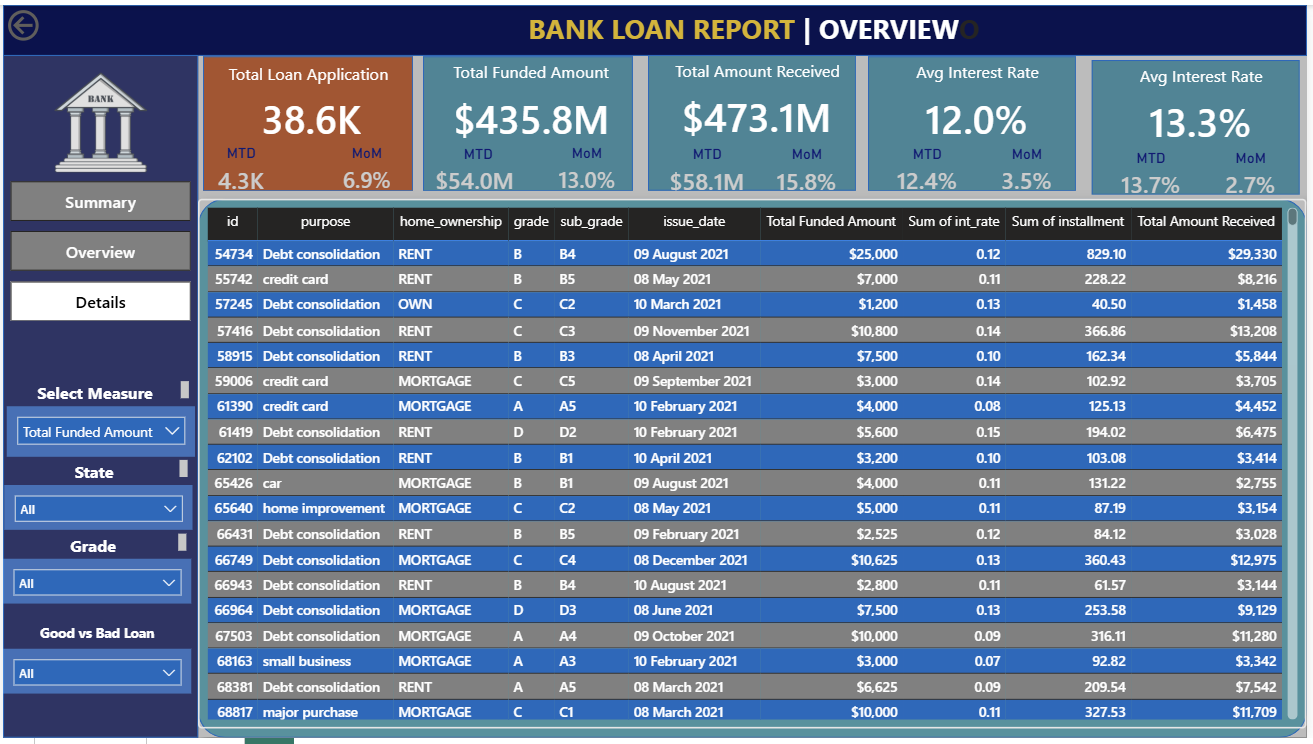

The page's visual inventory and layout, read from the dashboard file:
{"tool":"powerbi","page":{"name":"Details","canvas":[1280,720],"ordinal":2},"visuals":[{"type":"shape","box":[0,0,1280,50],"z":0},{"type":"shape","box":[633.2,49.1,204.1,133.2],"z":0,"group":"g3"},{"type":"shape","box":[412.2,50,206,132.3],"z":0,"group":"g5"},{"type":"shape","box":[849.4,50,204.1,132.3],"z":0,"group":"g4"},{"type":"shape","box":[195.9,50.3,206.1,132.3],"z":0,"group":"g6"},{"type":"shape","box":[1069.1,53.9,204.1,132.3],"z":0,"group":"g7"},{"type":"textbox","box":[1,441.6,184.8,29.2],"z":0,"group":"g8"},{"type":"textbox","box":[0,514.5,184.8,29.2],"z":0,"group":"g10"},{"type":"textbox","box":[0,602.1,184.8,29.2],"z":0,"group":"g9"},{"type":"shape","box":[0,49.6,191.6,670.2],"z":1000},{"type":"cardVisual","fields":{"Data":["bank_loan_data.Total Amount Received"]},"box":[648.5,81,184.4,54.9],"z":1000,"group":"g3"},{"type":"cardVisual","fields":{"Data":["bank_loan_data.Total Funded Amount"]},"box":[425.7,81.7,186.1,54.5],"z":1000,"group":"g5"},{"type":"cardVisual","fields":{"Data":["bank_loan_data.Average Interate Rate"]},"box":[864.7,81.7,184.4,54.5],"z":1000,"group":"g4"},{"type":"cardVisual","fields":{"Data":["bank_loan_data.Total Loan Application"]},"box":[209.4,82,186.2,54.5],"z":1000,"group":"g6"},{"type":"cardVisual","fields":{"Data":["bank_loan_data.Average DTI"]},"box":[1084.4,85.6,184.4,54.5],"z":1000,"group":"g7"},{"type":"slicer","fields":{"Values":["bank_loan_data.address_state"]},"box":[1,470.8,184.8,43.8],"z":1000,"group":"g8"},{"type":"slicer","fields":{"Values":["bank_loan_data.grade"]},"box":[0,543.7,184.8,43.8],"z":1000,"group":"g10"},{"type":"slicer","fields":{"Values":["bank_loan_data.Good Vs Bad Loan"]},"box":[0,631.3,184.8,43.8],"z":1000,"group":"g9"},{"type":"textbox","box":[193.6,0,1086.4,49.6],"z":2000},{"type":"textbox","box":[636.7,47.7,208.1,33.3],"z":2000,"group":"g3"},{"type":"textbox","box":[413.7,48.6,210,33.1],"z":2000,"group":"g5"},{"type":"textbox","box":[852.9,48.6,208.1,33.1],"z":2000,"group":"g4"},{"type":"textbox","box":[202.8,50.9,192.6,36],"z":2000,"group":"g6"},{"type":"textbox","box":[1072.6,52.5,208.1,33.1],"z":2000,"group":"g7"},{"type":"group","id":"g1","title":"Group 1","box":[195.9,50.3,206.1,132.3],"z":3000},{"type":"cardVisual","title":"MTD ","fields":{"Data":["bank_loan_data.MTD Loan Application"]},"box":[197.4,136.5,72.7,45.7],"z":3000,"group":"g6"},{"type":"cardVisual","title":"MTD ","fields":{"Data":["bank_loan_data.MTD Total Amount Received"]},"box":[640,137.2,101.6,45.1],"z":3000,"group":"g3"},{"type":"cardVisual","title":"MTD ","fields":{"Data":["bank_loan_data.MTD Funded Amount"]},"box":[412.4,137.5,108.5,44.7],"z":3000,"group":"g5"},{"type":"cardVisual","title":"MTD ","fields":{"Data":["bank_loan_data.MTD Average Int Rate"]},"box":[856.2,137.5,101.6,44.7],"z":3000,"group":"g4"},{"type":"cardVisual","title":"MTD ","fields":{"Data":["bank_loan_data.MTD Average DTI"]},"box":[1075.9,141.4,101.6,44.7],"z":3000,"group":"g7"},{"type":"group","id":"g2","title":"Group 1","box":[412.2,48.6,212,133.3],"z":4000},{"type":"cardVisual","title":"MoM","fields":{"Data":["bank_loan_data.MoM Total Funded Amount"]},"box":[535.1,136.1,76.6,45.7],"z":4000,"group":"g5"},{"type":"cardVisual","title":"MoM","fields":{"Data":["bank_loan_data.MoM loan Application"]},"box":[318.9,136.5,76.7,45.7],"z":4000,"group":"g6"},{"type":"cardVisual","title":"MoM","fields":{"Data":["bank_loan_data.MoM Total Amount Received"]},"box":[744.6,137.2,88.7,45.1],"z":4000,"group":"g3"},{"type":"cardVisual","title":"MoM","fields":{"Data":["bank_loan_data.MoM Avg Int Rate"]},"box":[960.8,137.5,88.7,44.7],"z":4000,"group":"g4"},{"type":"cardVisual","title":"MoM","fields":{"Data":["bank_loan_data.MoM Avg DTI"]},"box":[1180.5,141.4,88.7,44.7],"z":4000,"group":"g7"},{"type":"group","id":"g3","title":"Group 2","box":[633.2,47.7,212,134.2],"z":5000},{"type":"group","id":"g4","title":"Group 2","box":[849.4,48.6,212,134.2],"z":6000},{"type":"group","id":"g5","title":"Group 2","box":[412.2,48.6,211.5,133.6],"z":6503,"group":"g2"},{"type":"group","id":"g6","title":"Group 2","box":[195.9,50.3,206.1,132.3],"z":6503,"group":"g1"},{"type":"group","id":"g7","title":"Group 2","box":[1069.1,52.5,211.5,133.6],"z":7000},{"type":"group","id":"g8","title":"Group 3","box":[1,441.6,184.8,72.9],"z":8000},{"type":"group","id":"g9","title":"Group 3","box":[0,602.1,184.8,72.9],"z":9000},{"type":"group","id":"g10","title":"Group 3","box":[0,514.5,184.8,72.9],"z":10000},{"type":"slicer","fields":{"Values":["Select Measure.Select Measure"]},"box":[3.9,393.9,184.8,49.6],"z":11000},{"type":"textbox","box":[2.9,364.7,184.8,29.2],"z":12000},{"type":"shape","box":[191.6,190.6,1088.4,529.1],"z":13000},{"type":"tableEx","fields":{"Values":["bank_loan_data.id","bank_loan_data.purpose","bank_loan_data.home_ownership","bank_loan_data.grade","bank_loan_data.sub_grade","bank_loan_data.issue_date","bank_loan_data.Total Funded Amount","Sum(bank_loan_data.int_rate)","Sum(bank_loan_data.installment)","bank_loan_data.Total Amount Received"]},"box":[191.6,190.6,1088.4,520.4],"z":14000},{"type":"actionButton","box":[0,0,100,40],"z":15000},{"type":"image","box":[0,50.6,191.6,129.4],"z":16000},{"type":"pageNavigator","box":[7.8,173.1,177,138.1],"z":17000}]}

Visuals, with their boxes in screenshot pixels (x1, y1, x2, y2), scaled from the page's 1280x720 canvas onto the 1313x744 screenshot:
shape: pyautogui.locateOnScreen(0, 0, 1312, 52)
shape: pyautogui.locateOnScreen(650, 51, 859, 188)
shape: pyautogui.locateOnScreen(423, 52, 634, 188)
shape: pyautogui.locateOnScreen(871, 52, 1081, 188)
shape: pyautogui.locateOnScreen(201, 52, 412, 189)
shape: pyautogui.locateOnScreen(1097, 56, 1306, 192)
textbox: pyautogui.locateOnScreen(1, 456, 191, 486)
textbox: pyautogui.locateOnScreen(0, 532, 190, 562)
textbox: pyautogui.locateOnScreen(0, 622, 190, 652)
shape: pyautogui.locateOnScreen(0, 51, 197, 743)
cardVisual - bank_loan_data.Total Amount Received: pyautogui.locateOnScreen(665, 84, 854, 140)
cardVisual - bank_loan_data.Total Funded Amount: pyautogui.locateOnScreen(437, 84, 628, 141)
cardVisual - bank_loan_data.Average Interate Rate: pyautogui.locateOnScreen(887, 84, 1076, 141)
cardVisual - bank_loan_data.Total Loan Application: pyautogui.locateOnScreen(215, 85, 406, 141)
cardVisual - bank_loan_data.Average DTI: pyautogui.locateOnScreen(1112, 88, 1302, 145)
slicer - bank_loan_data.address_state: pyautogui.locateOnScreen(1, 486, 191, 532)
slicer - bank_loan_data.grade: pyautogui.locateOnScreen(0, 562, 190, 607)
slicer - bank_loan_data.Good Vs Bad Loan: pyautogui.locateOnScreen(0, 652, 190, 698)
textbox: pyautogui.locateOnScreen(199, 0, 1312, 51)
textbox: pyautogui.locateOnScreen(653, 49, 867, 84)
textbox: pyautogui.locateOnScreen(424, 50, 640, 84)
textbox: pyautogui.locateOnScreen(875, 50, 1088, 84)
textbox: pyautogui.locateOnScreen(208, 53, 406, 90)
textbox: pyautogui.locateOnScreen(1100, 54, 1312, 88)
"Group 1" group: pyautogui.locateOnScreen(201, 52, 412, 189)
"MTD " cardVisual: pyautogui.locateOnScreen(202, 141, 277, 188)
"MTD " cardVisual: pyautogui.locateOnScreen(656, 142, 761, 188)
"MTD " cardVisual: pyautogui.locateOnScreen(423, 142, 534, 188)
"MTD " cardVisual: pyautogui.locateOnScreen(878, 142, 982, 188)
"MTD " cardVisual: pyautogui.locateOnScreen(1104, 146, 1208, 192)
"Group 1" group: pyautogui.locateOnScreen(423, 50, 640, 188)
"MoM" cardVisual: pyautogui.locateOnScreen(549, 141, 627, 188)
"MoM" cardVisual: pyautogui.locateOnScreen(327, 141, 406, 188)
"MoM" cardVisual: pyautogui.locateOnScreen(764, 142, 855, 188)
"MoM" cardVisual: pyautogui.locateOnScreen(986, 142, 1077, 188)
"MoM" cardVisual: pyautogui.locateOnScreen(1211, 146, 1302, 192)
"Group 2" group: pyautogui.locateOnScreen(650, 49, 867, 188)
"Group 2" group: pyautogui.locateOnScreen(871, 50, 1089, 189)
"Group 2" group: pyautogui.locateOnScreen(423, 50, 640, 188)
"Group 2" group: pyautogui.locateOnScreen(201, 52, 412, 189)
"Group 2" group: pyautogui.locateOnScreen(1097, 54, 1312, 192)
"Group 3" group: pyautogui.locateOnScreen(1, 456, 191, 532)
"Group 3" group: pyautogui.locateOnScreen(0, 622, 190, 698)
"Group 3" group: pyautogui.locateOnScreen(0, 532, 190, 607)
slicer - Select Measure.Select Measure: pyautogui.locateOnScreen(4, 407, 194, 458)
textbox: pyautogui.locateOnScreen(3, 377, 193, 407)
shape: pyautogui.locateOnScreen(197, 197, 1312, 743)
tableEx - bank_loan_data.id x bank_loan_data.purpose: pyautogui.locateOnScreen(197, 197, 1312, 735)
actionButton: pyautogui.locateOnScreen(0, 0, 103, 41)
image: pyautogui.locateOnScreen(0, 52, 197, 186)
pageNavigator: pyautogui.locateOnScreen(8, 179, 190, 322)
